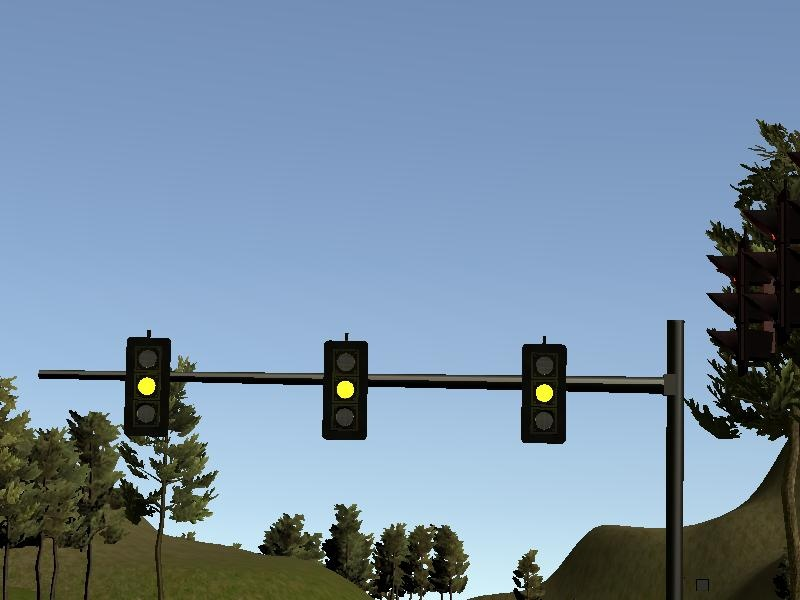YELLOW: (124, 329, 172, 439), (320, 333, 368, 443), (520, 334, 568, 444)
